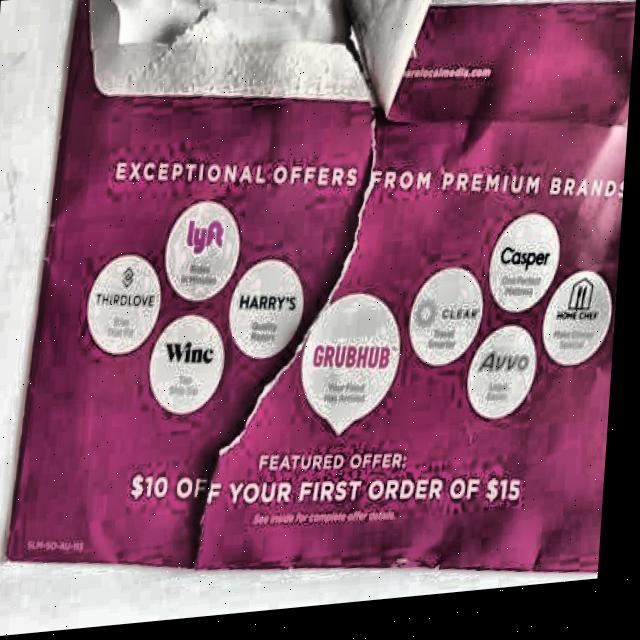paper: (0, 0, 640, 636)
